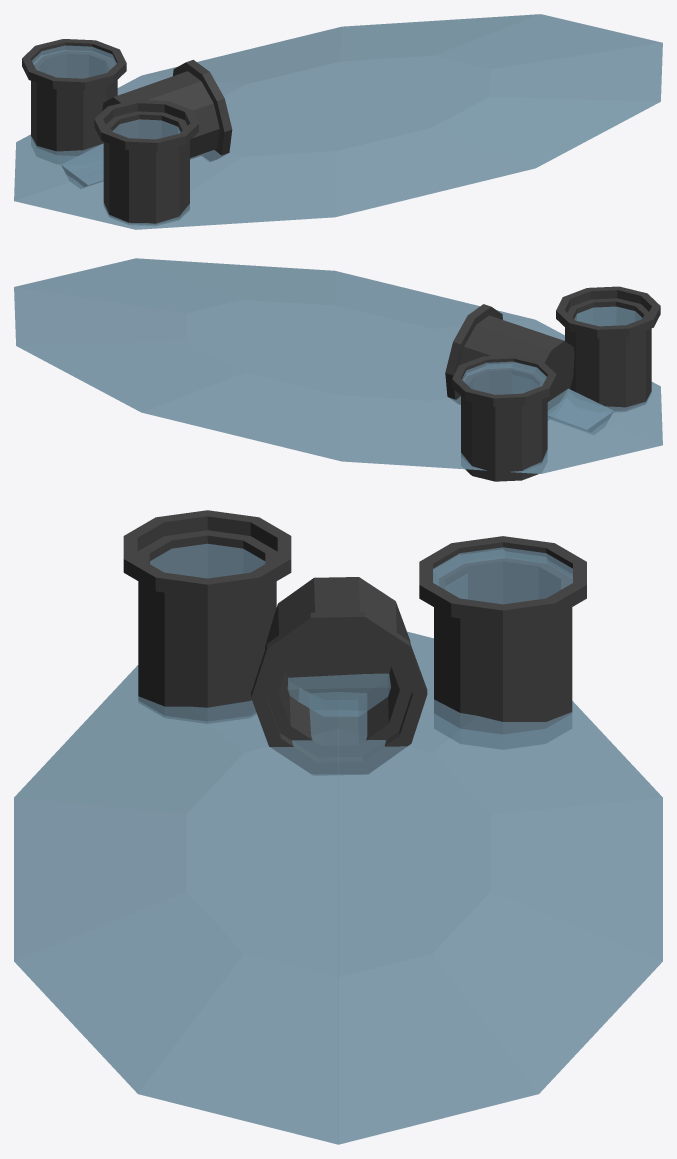
File: LODIBIDON (2).fbx
The picture shows the model from 3 angles, top to bottom: view 1: azimuth 30°, elevation 25°; view 2: azimuth 150°, elevation 25°; view 3: azimuth 270°, elevation 25°; orthographic projection. The views are drawn at different scales.
Visible parts, largest first — view 1: polySurface574; view 2: polySurface574; view 3: polySurface574.
Part boxes in pixels (box(x1,y1,x2,y2)): polySurface574: box(14, 14, 662, 229); polySurface574: box(14, 258, 662, 481); polySurface574: box(14, 510, 662, 1144).
Size of the model in its own units: 17.24 by 2.52 by 8.92.
